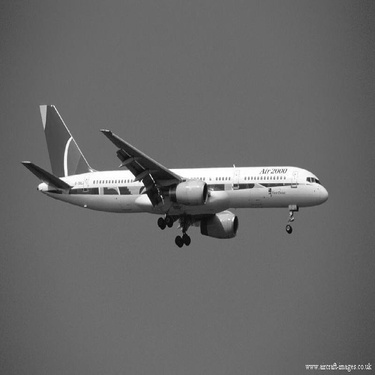airplane: (17, 94, 330, 256)
